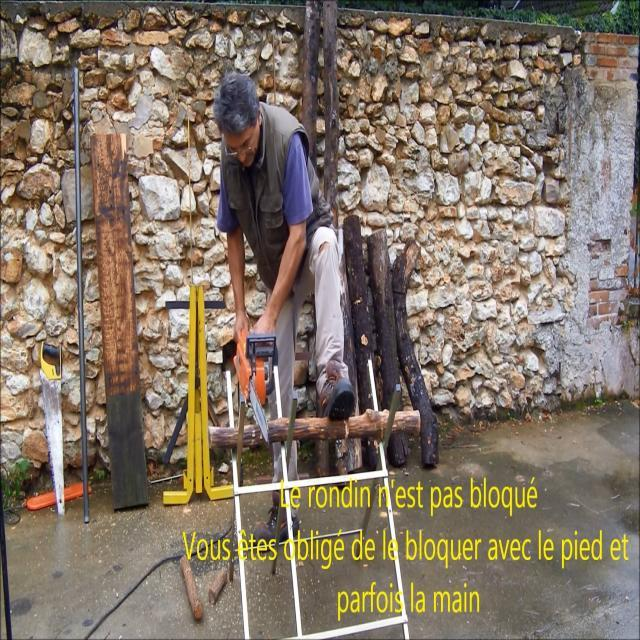Chainsaw: (204, 340, 284, 460)
